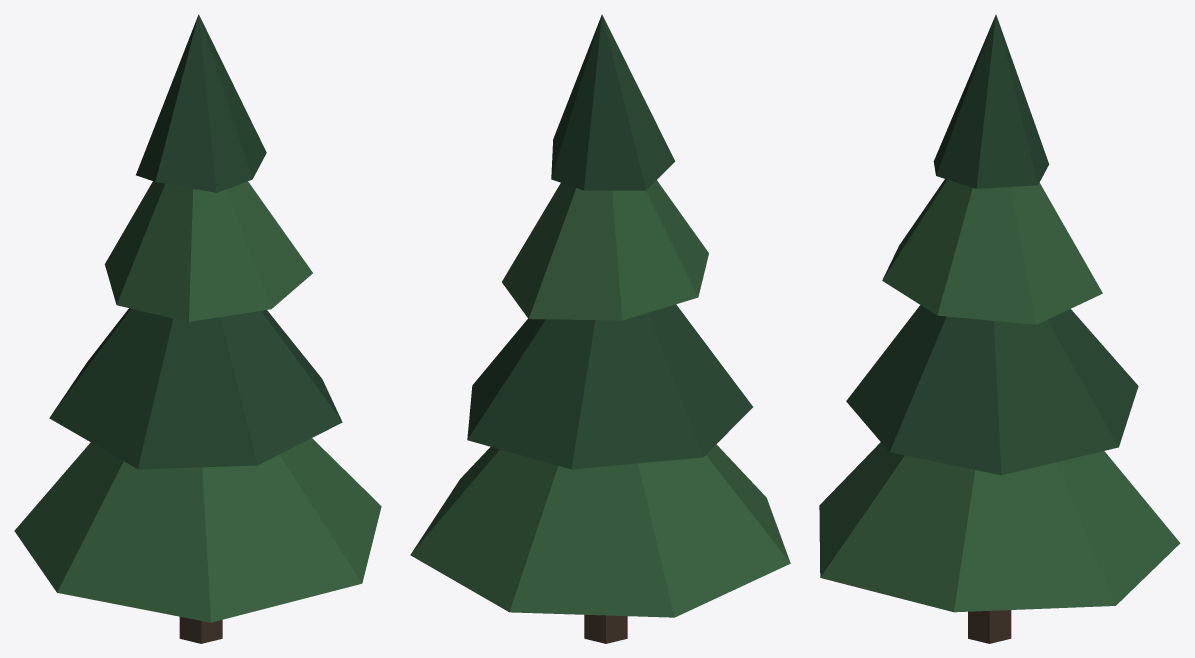
File: pine.glb
3 renders of one model, left to right at view 1: azimuth 30°, elevation 25°; view 2: azimuth 150°, elevation 25°; view 3: azimuth 270°, elevation 25°, orthographic.
Parts seen in each view (by area): view 1: pine; view 2: pine; view 3: pine.
Part boxes in pixels (bbox=[...]): pine: bbox=[14, 14, 381, 643]; pine: bbox=[410, 14, 790, 643]; pine: bbox=[819, 14, 1180, 643].
Size of the model in its own units: 2.12 by 3.84 by 2.03.
